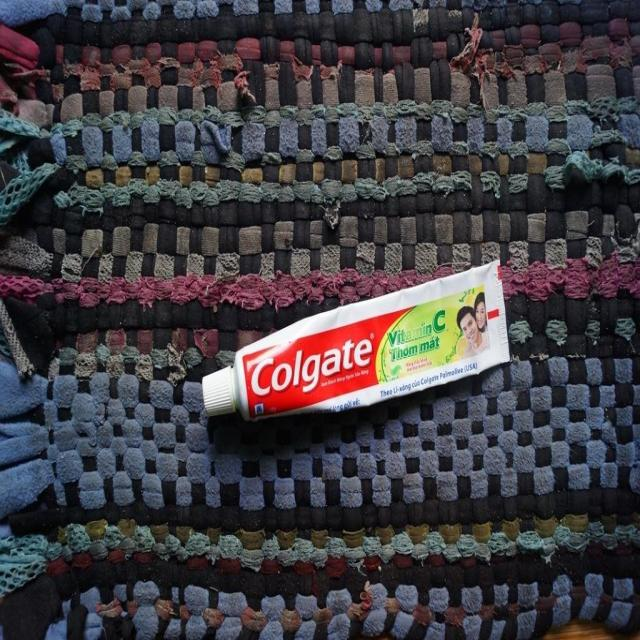Toothpaste: (182, 260, 512, 429)
